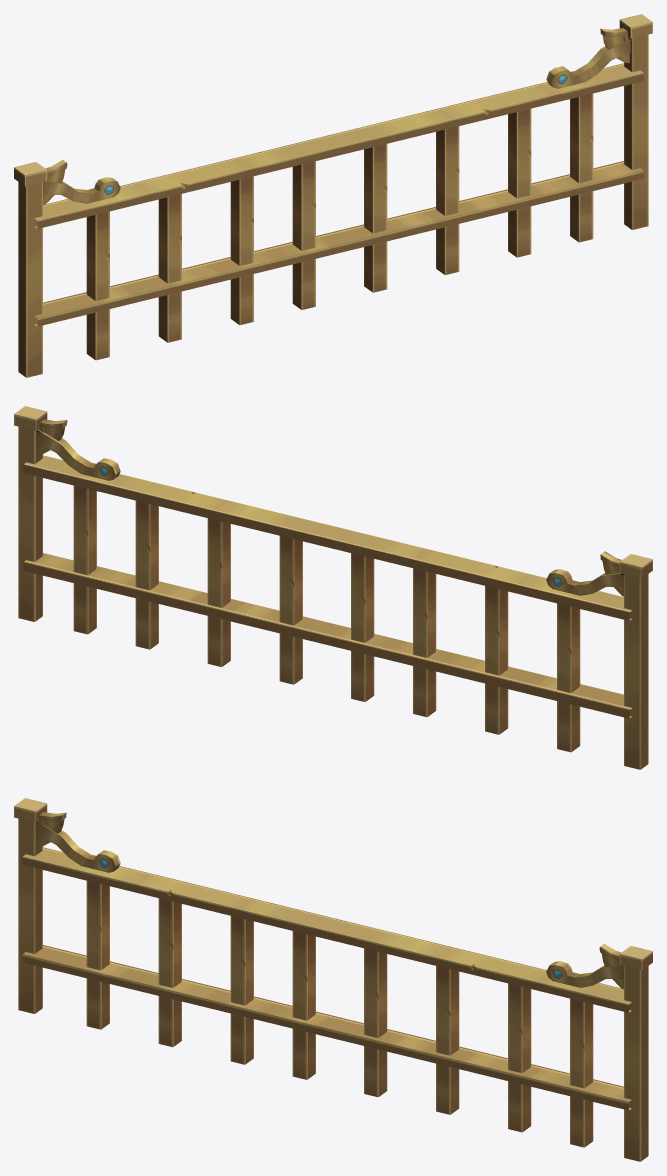
File: zhucheng_jinhulan.FBX
3 views of the same model, one above another, from view 1: azimuth 30°, elevation 25°; view 2: azimuth 150°, elevation 25°; view 3: azimuth 330°, elevation 25° (orthographic).
Visible parts, largest first — view 1: zhucheng_jinhulan; view 2: zhucheng_jinhulan; view 3: zhucheng_jinhulan.
Part boxes in pixels (<box>): zhucheng_jinhulan: <box>14,14,652,377</box>; zhucheng_jinhulan: <box>14,406,652,769</box>; zhucheng_jinhulan: <box>14,798,652,1161</box>.
Bounding box in the file's own units: 412 × 128 × 16.54.
